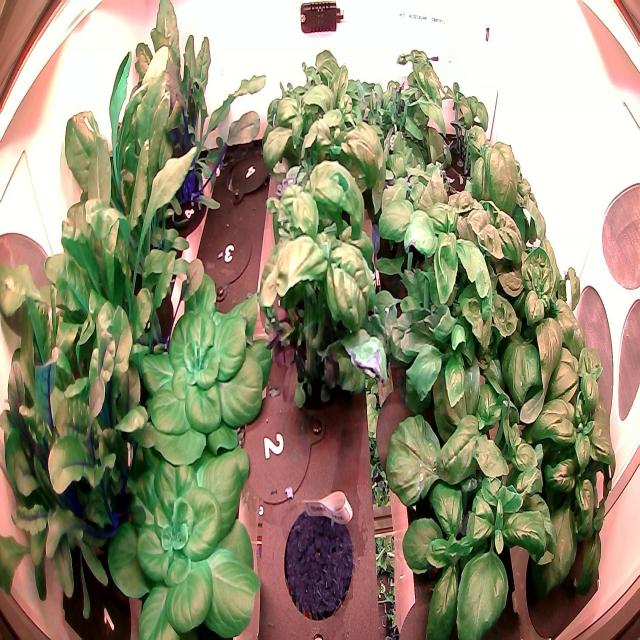empty_pod: (196, 214, 257, 302), (223, 138, 274, 206)
pod: (280, 501, 360, 625)
young: (101, 427, 263, 638), (129, 269, 280, 477)
